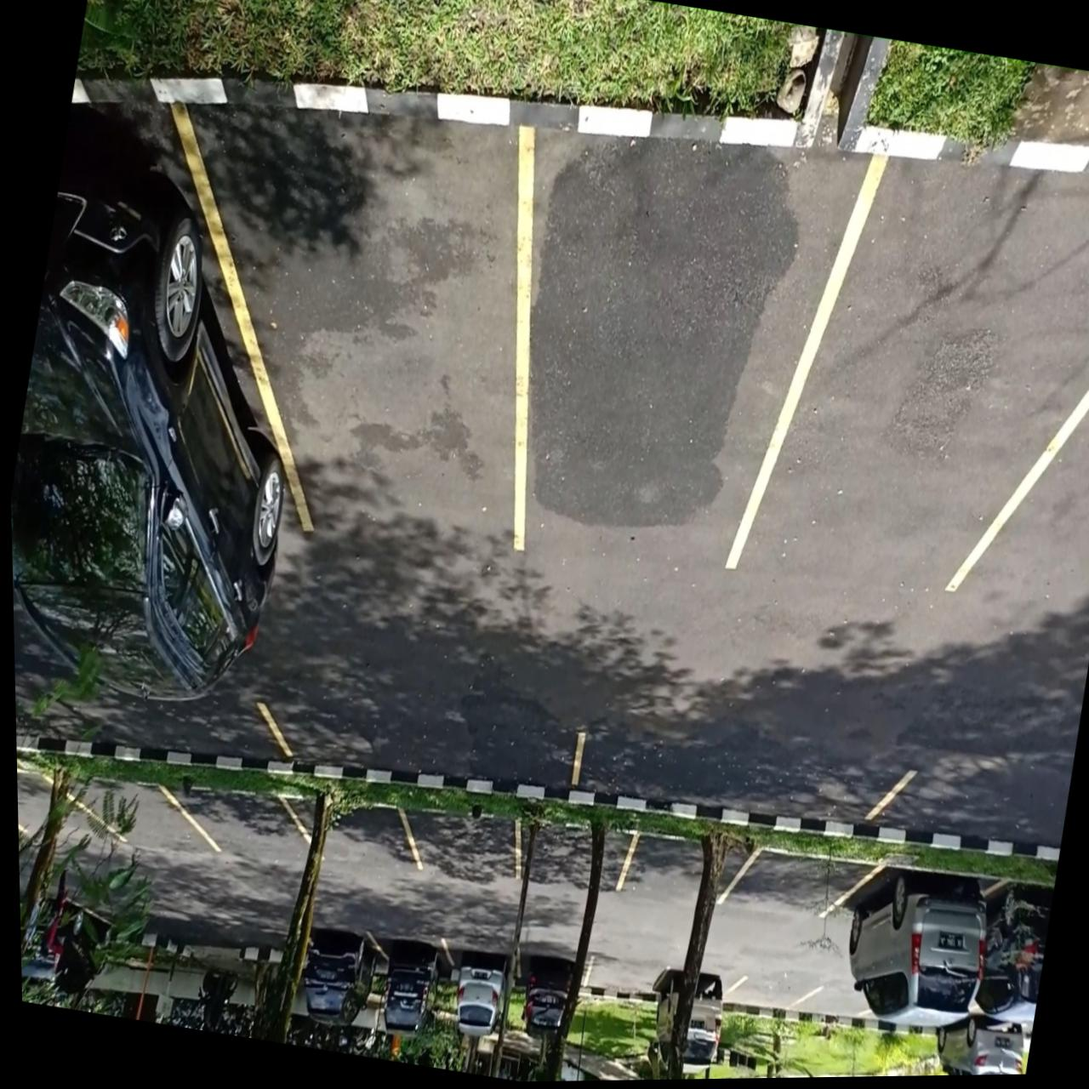cars: (823, 866, 1003, 932), (20, 894, 117, 934), (442, 938, 518, 983), (367, 930, 452, 970), (651, 967, 743, 1003), (517, 947, 591, 991)
empty: (726, 142, 1089, 590), (522, 122, 877, 572), (175, 112, 521, 549), (574, 731, 916, 822), (260, 701, 582, 784), (16, 698, 287, 757), (49, 773, 218, 852), (161, 782, 320, 857), (720, 848, 882, 918), (618, 834, 760, 904), (284, 793, 420, 866), (518, 822, 637, 890), (17, 773, 122, 846), (401, 807, 518, 868), (721, 977, 821, 1011), (584, 959, 666, 998)
